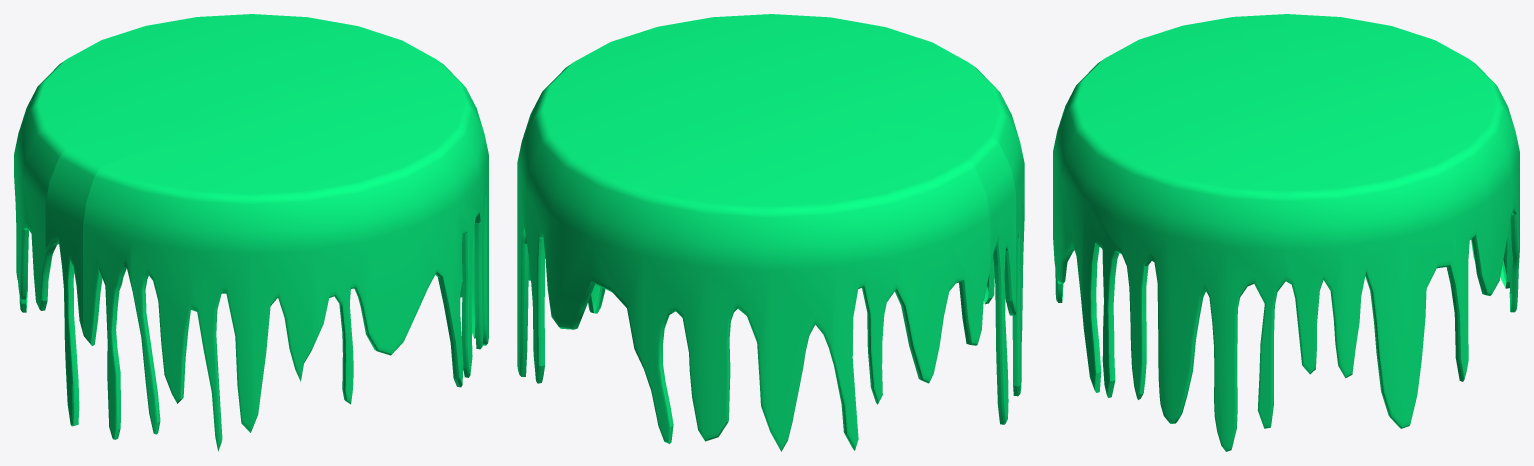
The model's file is Ara_katman_5.fbx.
3 renders of one model, left to right at view 1: azimuth 30°, elevation 25°; view 2: azimuth 150°, elevation 25°; view 3: azimuth 270°, elevation 25°, orthographic. The views are drawn at different scales.
Visible parts, largest first — view 1: p24; view 2: p24; view 3: p24.
Boxes of the visible parts, x1=… form: p24: x1=14, y1=14, x2=488, y2=451; p24: x1=517, y1=14, x2=1024, y2=451; p24: x1=1053, y1=14, x2=1519, y2=451.
Size of the model in its own units: 1.67 by 1.01 by 1.67.
